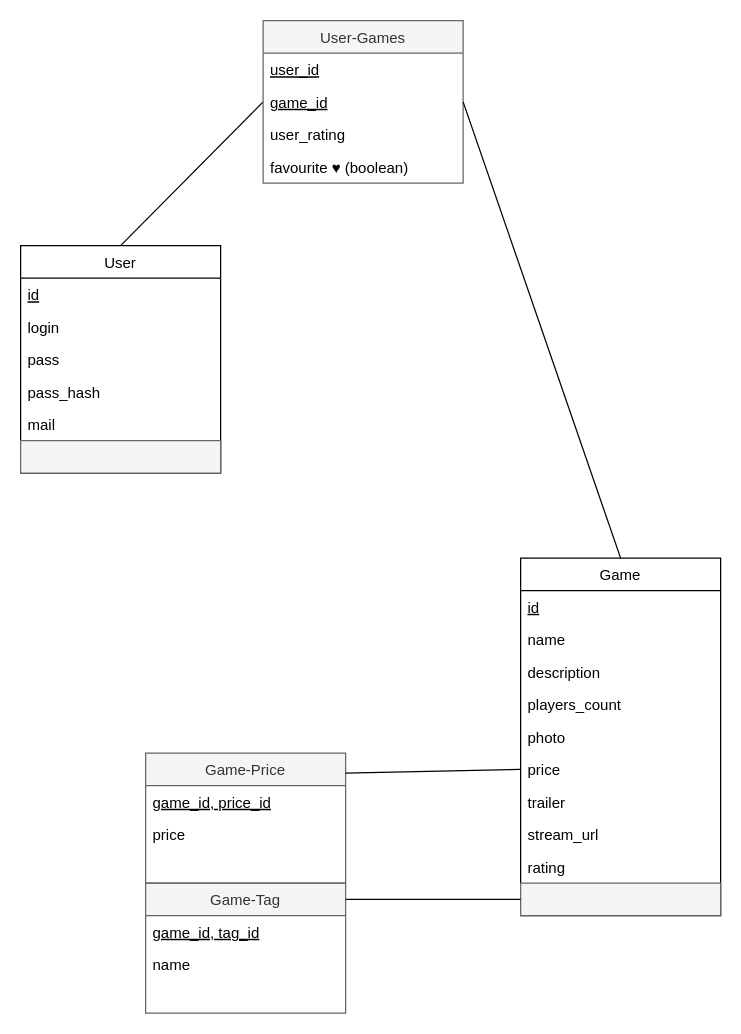
Some shapes in this 741 by 1034 pixel diagram are drawn without their labels. The shapes that lost their labels are listed below. From the top down, each one's centre as x and y in pixels, then its label:
At point 120,456: "steam_profile ?".
At point 620,899: "tags? -or-".
